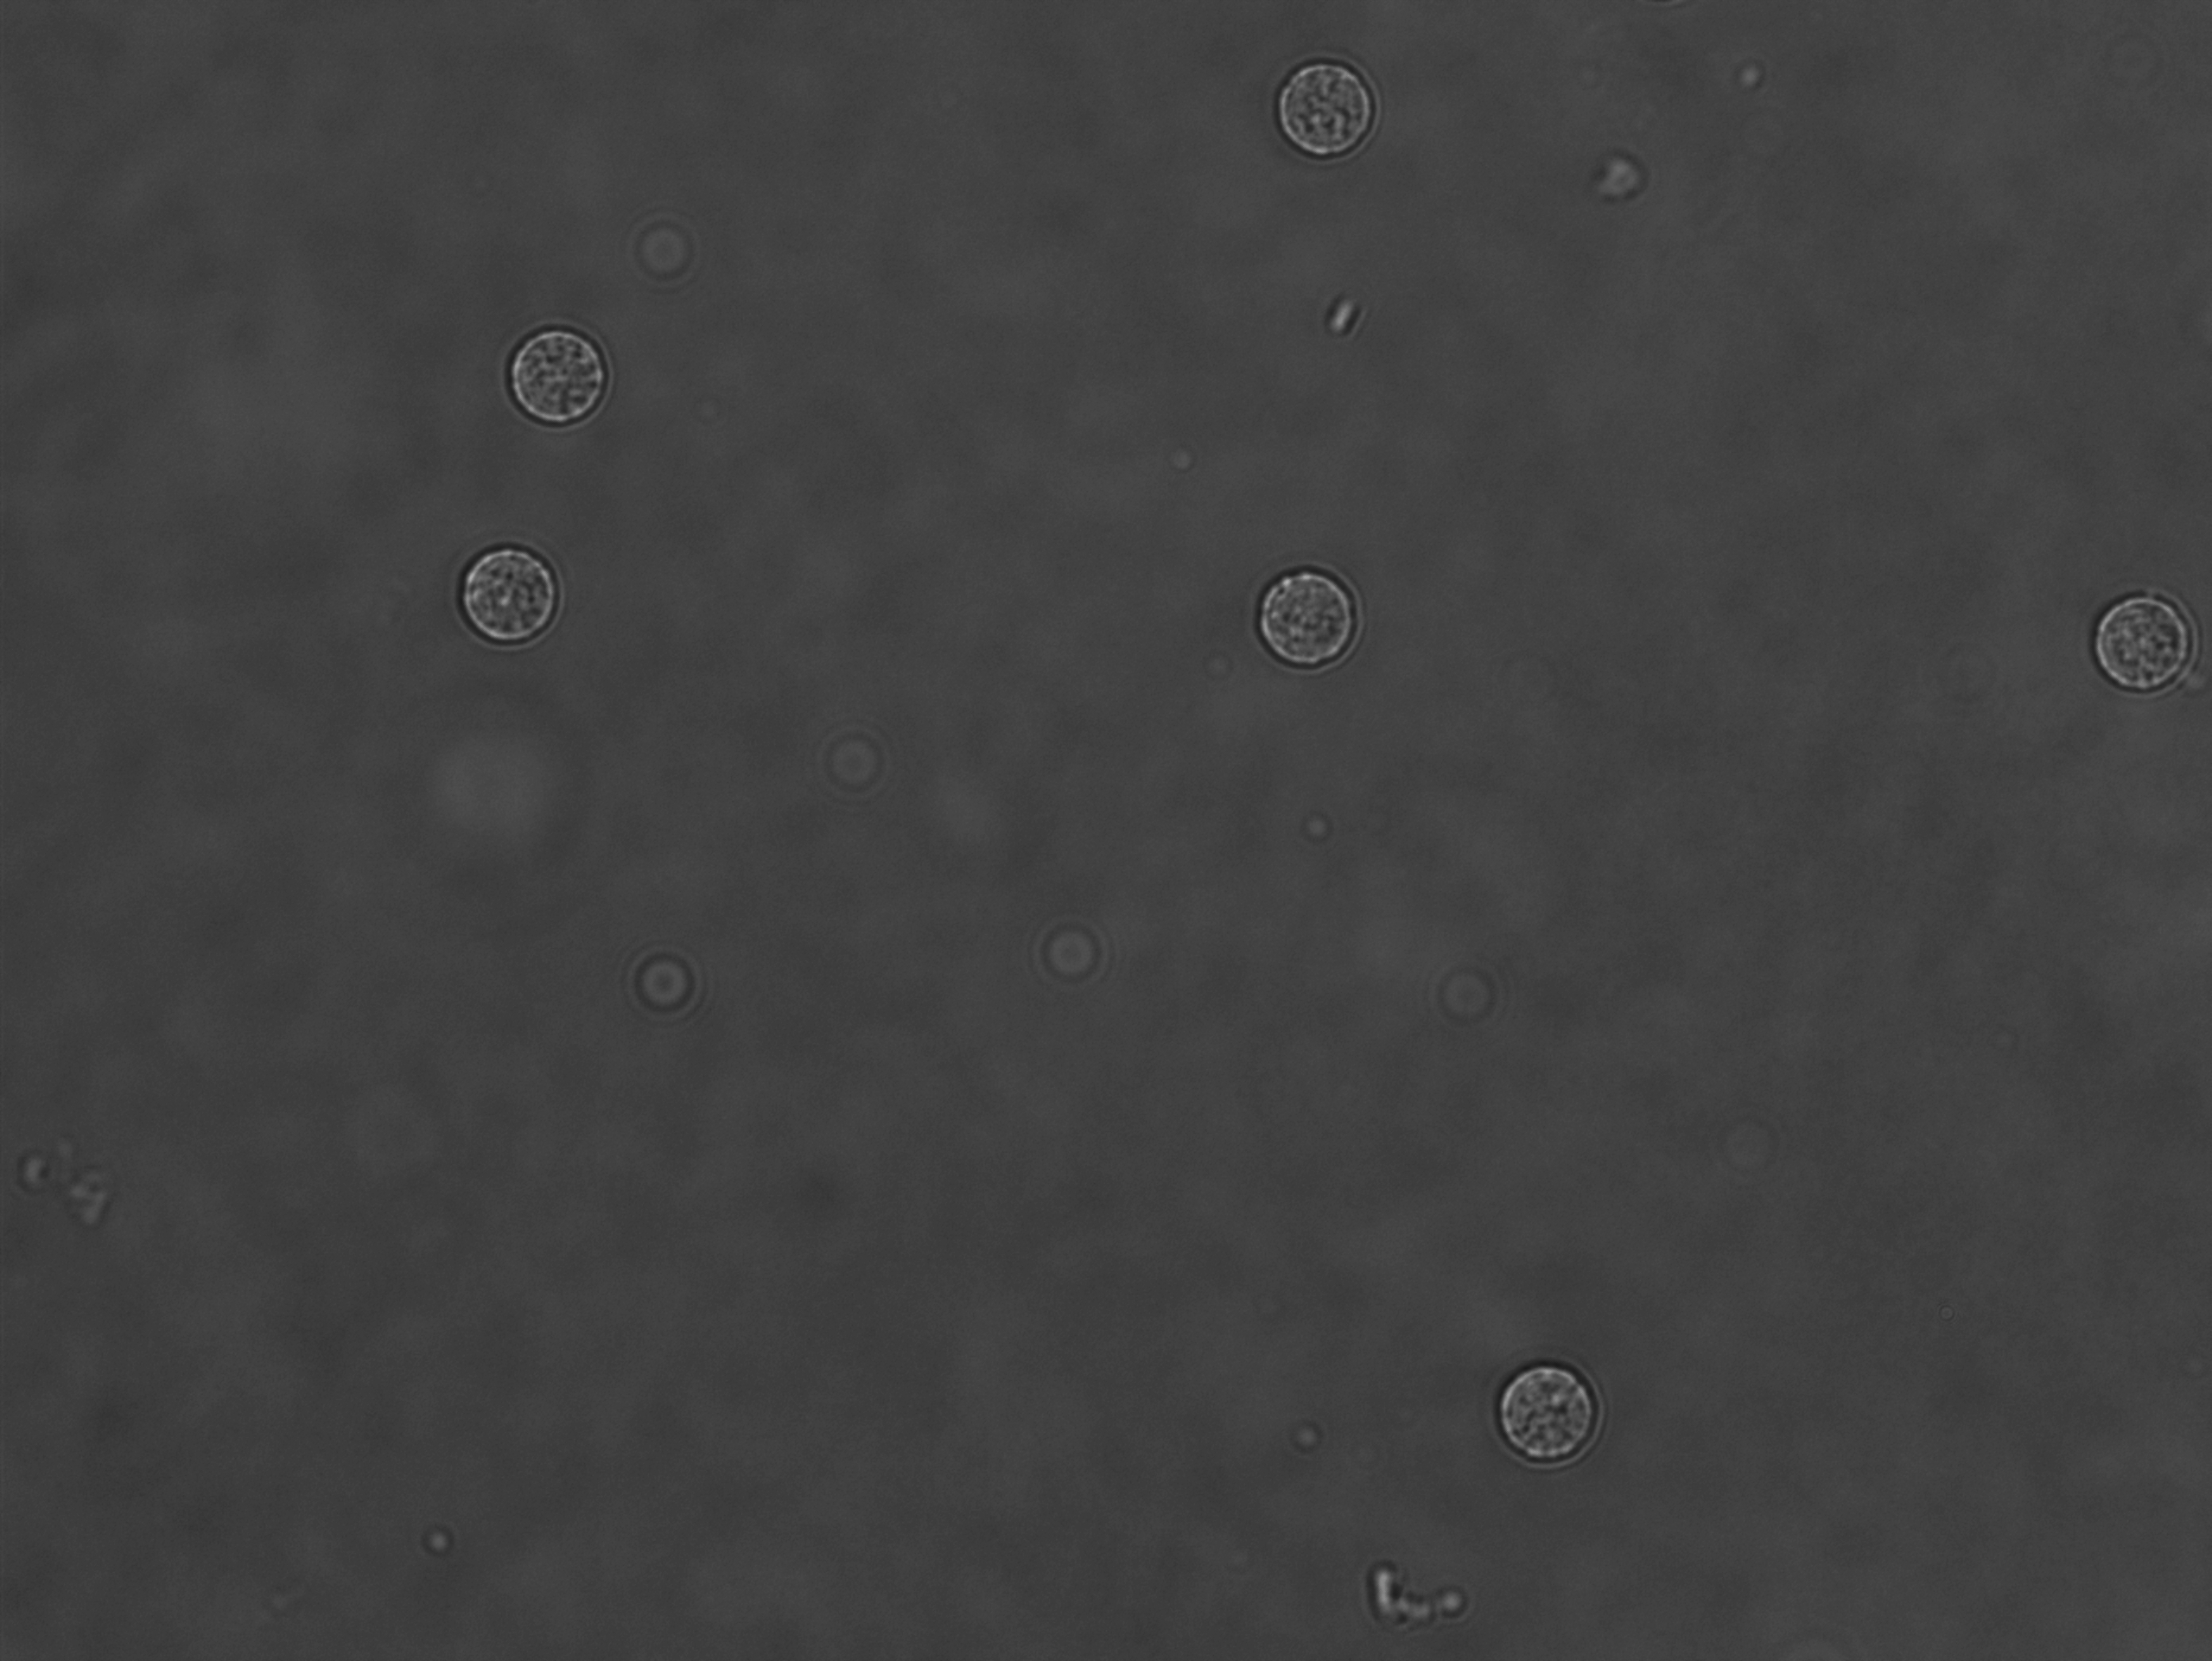depth:0: (429, 529, 605, 689), (2065, 567, 2210, 710), (504, 302, 654, 440), (1485, 1349, 1638, 1480), (1246, 558, 1383, 691), (1265, 47, 1392, 173)
